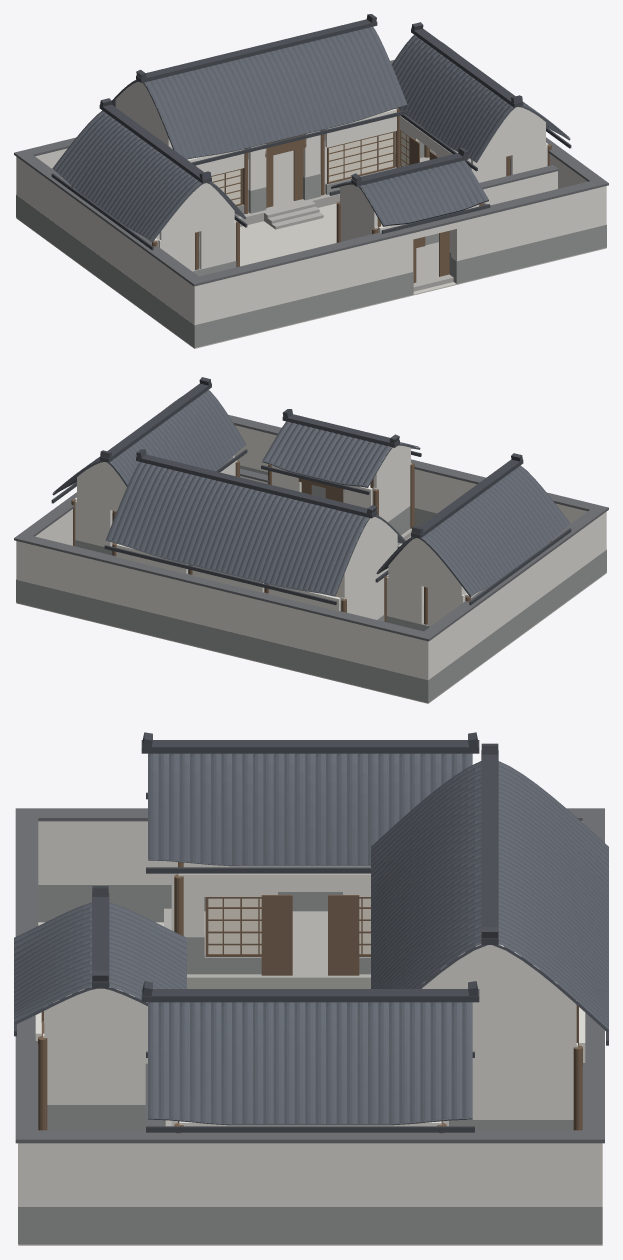
File: architecture.glb
3 views of the same model, one above another, from view 1: azimuth 30°, elevation 25°; view 2: azimuth 150°, elevation 25°; view 3: azimuth 270°, elevation 25° (orthographic). The views are drawn at different scales.
Parts seen in each view (by area): view 1: MainHall_RoofTiles, WestWing_RoofTiles, WallPerimS1, EastWing_RoofTiles, WallPerimW, WallPerimS2, WallPerimS1Skirt, Gate_RoofTiles, Ground, WallPerimWSkirt, WallPerimS2Skirt, WestWing_gable-1 (+37 smaller); view 2: MainHall_RoofTiles, WallPerimN, WallPerimNSkirt, WestWing_RoofTiles, WallPerimW, EastWing_RoofTiles, Gate_RoofTiles, WallPerimWSkirt, WallPerimNCap, MainHall_gable-1, WestWing_gable1, WallPerimS1 (+27 smaller); view 3: MainHall_RoofTiles, EastWing_RoofTiles, WallPerimE, WestWing_RoofTiles, WallPerimESkirt, Gate_RoofTiles, MainHall_gable1, MainHall_sidewall1, WallPerimW, WallPerimECap, Gate_sidewall1, WestWing_plinth (+34 smaller).
Boxes of the visible parts, x1,y1,x2,y2 form: MainHall_RoofTiles: [112, 27, 407, 158]; WestWing_RoofTiles: [52, 110, 245, 240]; WallPerimS1: [189, 233, 413, 324]; EastWing_RoofTiles: [391, 35, 570, 161]; WallPerimW: [21, 160, 189, 320]; WallPerimS2: [451, 186, 606, 260]; WallPerimS1Skirt: [189, 272, 413, 347]; Gate_RoofTiles: [331, 160, 488, 224]; Ground: [16, 203, 606, 348]; WallPerimWSkirt: [21, 198, 188, 343]; WallPerimS2Skirt: [451, 224, 606, 283]; WestWing_gable-1: [159, 183, 234, 240]; MainHall_RoofTiles: [106, 462, 405, 595]; WallPerimN: [16, 541, 433, 679]; WallPerimNSkirt: [16, 579, 433, 702]; WestWing_RoofTiles: [377, 465, 570, 595]; WallPerimW: [433, 515, 601, 675]; EastWing_RoofTiles: [53, 390, 246, 492]; Gate_RoofTiles: [262, 421, 419, 486]; WallPerimWSkirt: [433, 553, 601, 698]; WallPerimNCap: [14, 534, 435, 641]; MainHall_gable-1: [341, 517, 397, 597]; WestWing_gable1: [388, 538, 463, 595]; WallPerimS1: [414, 469, 606, 552]; MainHall_RoofTiles: [371, 761, 608, 1029]; EastWing_RoofTiles: [148, 1002, 472, 1124]; WallPerimE: [35, 1143, 585, 1206]; WestWing_RoofTiles: [148, 753, 472, 865]; WallPerimESkirt: [35, 1207, 585, 1244]; Gate_RoofTiles: [14, 902, 186, 1021]; MainHall_gable1: [422, 944, 576, 1045]; MainHall_sidewall1: [467, 1043, 577, 1119]; WallPerimW: [38, 821, 582, 884]; WallPerimECap: [33, 1130, 587, 1143]; Gate_sidewall1: [43, 1033, 147, 1104]; WestWing_plinth: [164, 908, 370, 988].
Size of the model in its own units: 18.3 by 6.43 by 13.75.
